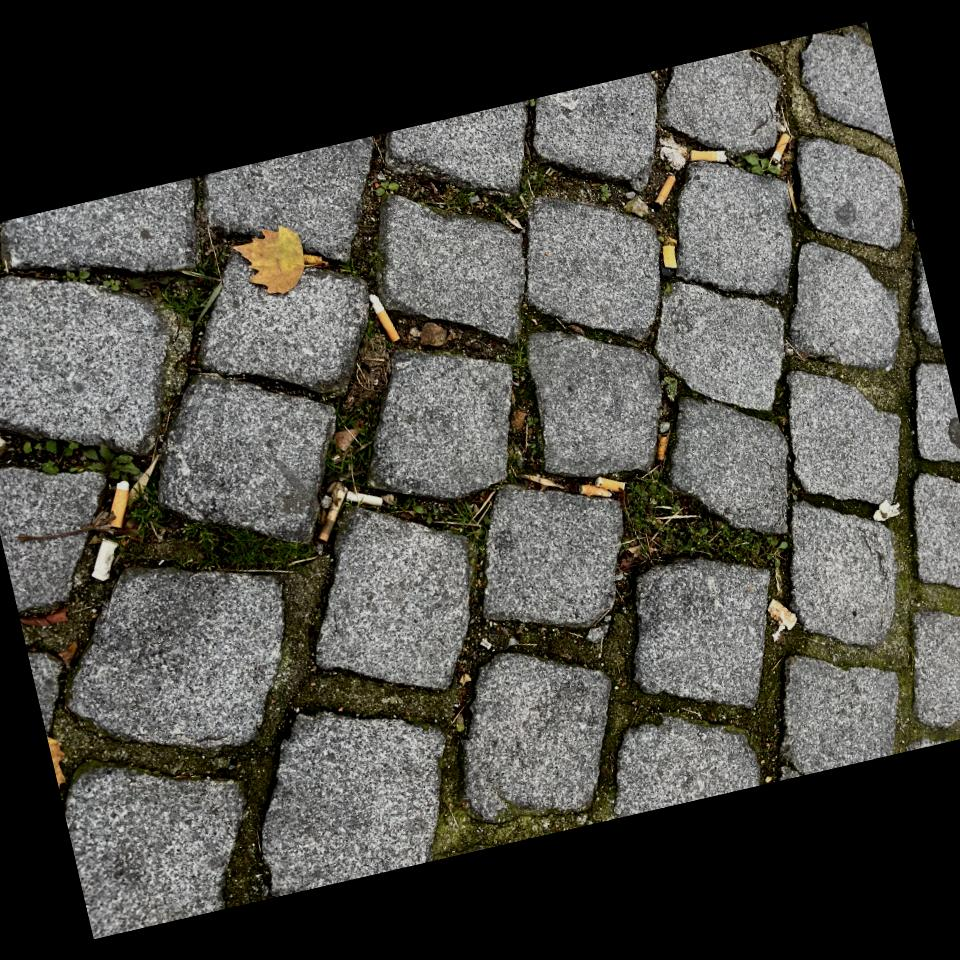weed: (622, 471, 786, 567), (143, 240, 224, 322), (173, 523, 309, 569), (65, 442, 136, 480)
